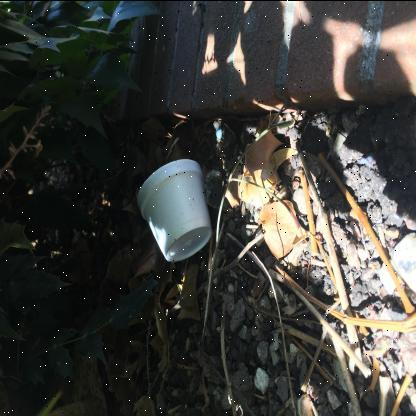foam: (137, 157, 212, 262)
